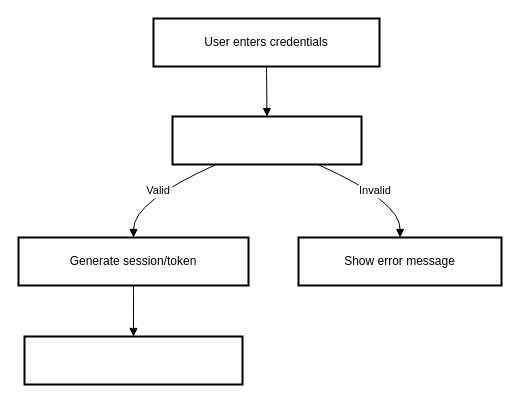
The diagram is 519 pixels wide and 402 high, and some of its shapes have lost their labels. The centre of each missing label's shape, as x and y in pixels:
Backend validates: pixel 266 140
Redirect to dashboard: pixel 133 360
